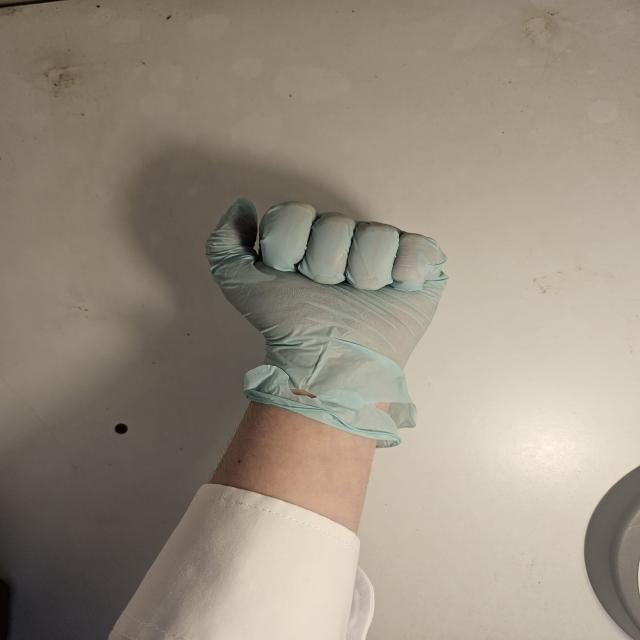gloves_damaged: (200, 198, 448, 447)
